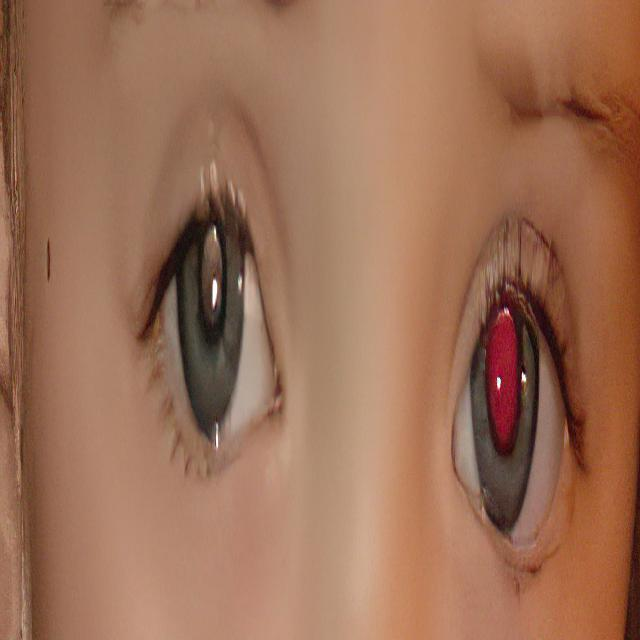reflexo-alterado: (134, 102, 296, 535)
reflexo-normal: (454, 194, 583, 597)
